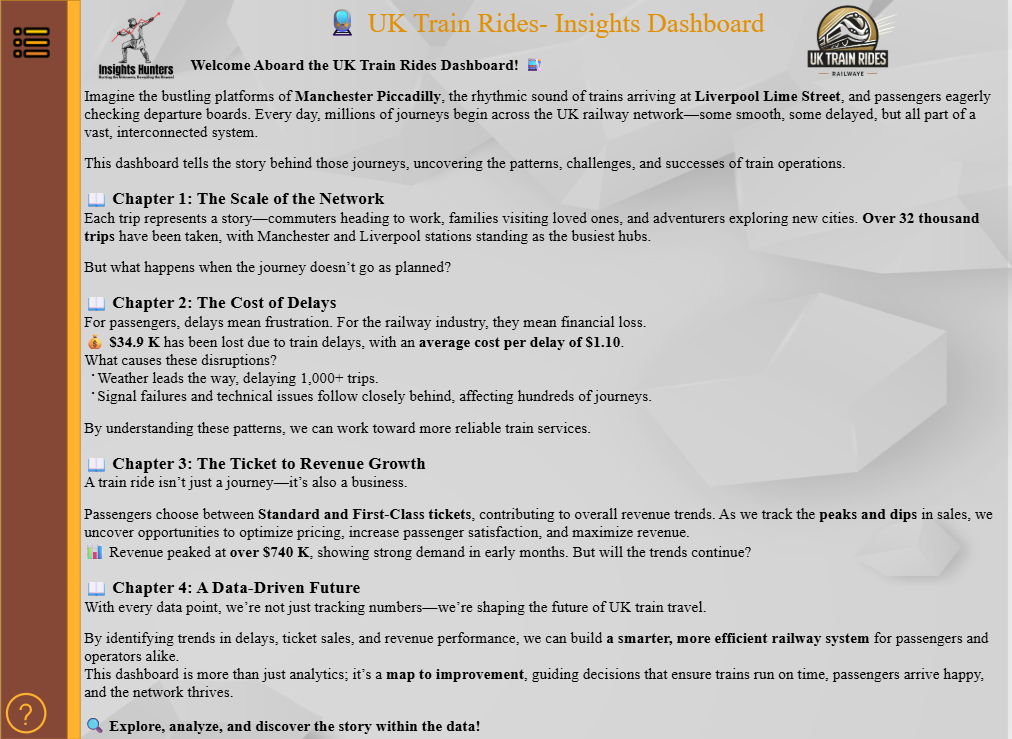

Layout of this report page (visuals, bound fields, positions):
{"tool":"powerbi","page":{"name":"🏠 Home","canvas":[1400,1020],"ordinal":0},"visuals":[{"type":"shape","title":"barshape ","box":[70,0,50,1020],"z":0},{"type":"actionButton","title":"Back button","box":[101.2,0,44.7,51.3],"z":0,"group":"g2"},{"type":"actionButton","title":"Q&A","box":[9.6,948,93.2,70.8],"z":0,"group":"g1"},{"type":"actionButton","title":"Executive dash button","box":[96.4,946.4,377.6,73.9],"z":500,"group":"g2"},{"type":"actionButton","title":"UK Train Rides","box":[96.4,0,1303.1,1018.7],"z":1000},{"type":"actionButton","title":"Menu show button","box":[24.2,1.6,73.7,114.5],"z":1000,"group":"g1"},{"type":"actionButton","title":"Executive dash button","box":[101.4,73.2,370.4,80.2],"z":1000,"group":"g2"},{"type":"shape","title":"main shape menu","box":[10,0,92.5,1020],"z":2000},{"type":"actionButton","title":"Executive dash button","box":[101.2,461.2,371.2,80.3],"z":2000,"group":"g2"},{"type":"shape","title":"barshape ","box":[99.6,1.3,374.4,1018.7],"z":3000},{"type":"actionButton","title":"Executive dash button","box":[101.2,583.3,371.2,80.3],"z":3000,"group":"g2"},{"type":"group","id":"g1","title":"control","box":[9.6,1.6,93.2,1017.1],"z":4000},{"type":"actionButton","title":"Executive dash button","box":[101.2,189.6,371.2,80.3],"z":4000,"group":"g2"},{"type":"group","id":"g2","title":"Menu Objects","box":[96.4,0,377.6,1020.3],"z":5000},{"type":"actionButton","title":"Executive dash button","box":[101.2,326.2,371.2,80.3],"z":5000,"group":"g2"},{"type":"actionButton","title":"Executive dash button","box":[101.2,842,371.2,80.3],"z":6000,"group":"g2"},{"type":"actionButton","title":"Executive dash button","box":[101.2,716.6,371.2,80.3],"z":7000,"group":"g2"},{"type":"image","box":[1092.2,0,187.8,118.3],"z":8000}]}

Visuals, with their boxes in screenshot pixels (x1, y1, x2, y2), scaled from the page's 1400x1020 canvas onto the 1012x739 screenshot:
"barshape " shape: left=51, top=0, right=87, bottom=738
"Back button" actionButton: left=73, top=0, right=105, bottom=37
"Q&A" actionButton: left=7, top=687, right=74, bottom=738
"Executive dash button" actionButton: left=70, top=686, right=343, bottom=738
"UK Train Rides" actionButton: left=70, top=0, right=1011, bottom=738
"Menu show button" actionButton: left=17, top=1, right=71, bottom=84
"Executive dash button" actionButton: left=73, top=53, right=341, bottom=111
"main shape menu" shape: left=7, top=0, right=74, bottom=738
"Executive dash button" actionButton: left=73, top=334, right=341, bottom=392
"barshape " shape: left=72, top=1, right=343, bottom=738
"Executive dash button" actionButton: left=73, top=423, right=341, bottom=481
"control" group: left=7, top=1, right=74, bottom=738
"Executive dash button" actionButton: left=73, top=137, right=341, bottom=196
"Menu Objects" group: left=70, top=0, right=343, bottom=738
"Executive dash button" actionButton: left=73, top=236, right=341, bottom=295
"Executive dash button" actionButton: left=73, top=610, right=341, bottom=668
"Executive dash button" actionButton: left=73, top=519, right=341, bottom=577
image: left=790, top=0, right=925, bottom=86
